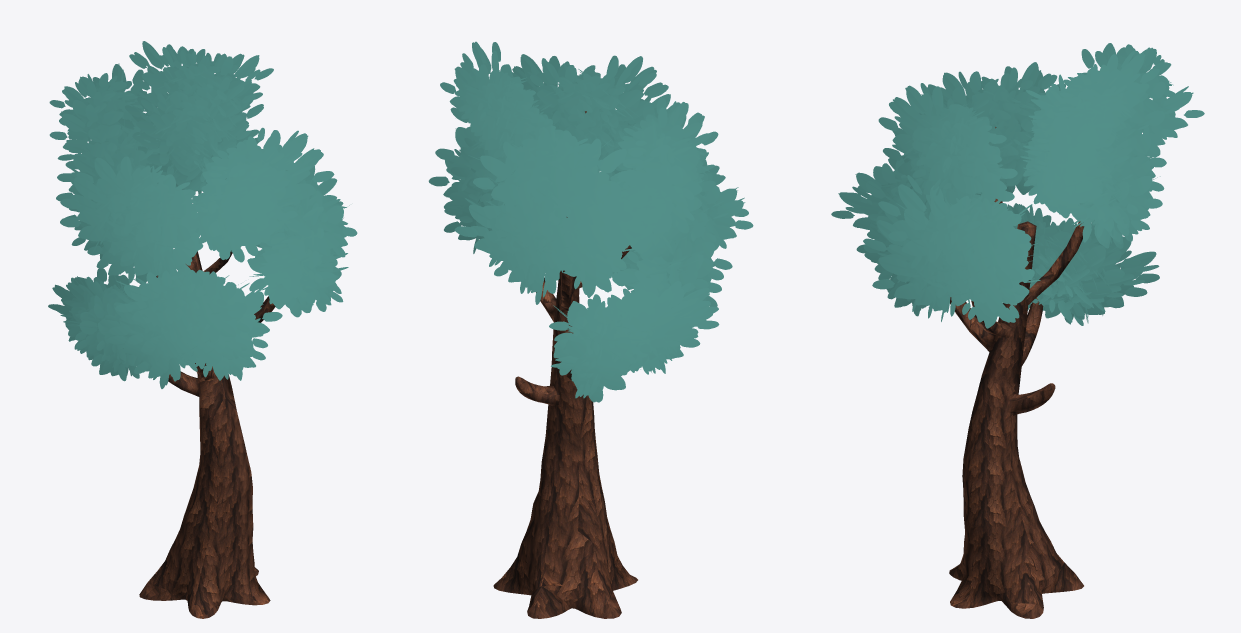
The model's file is gtree_common_5.glb.
3 views of the same model, side by side, from view 1: azimuth 30°, elevation 25°; view 2: azimuth 150°, elevation 25°; view 3: azimuth 270°, elevation 25° (orthographic). The views are drawn at different scales.
Visible parts, largest first — view 1: model; view 2: model; view 3: model.
Part boxes in pixels (x1,y1,x2,y2): model: (48, 41, 357, 618); model: (428, 41, 753, 618); model: (831, 43, 1204, 618).
Size of the model in its own units: 3.64 by 6.22 by 4.18.
Materials: 2 (2 with a texture image).
